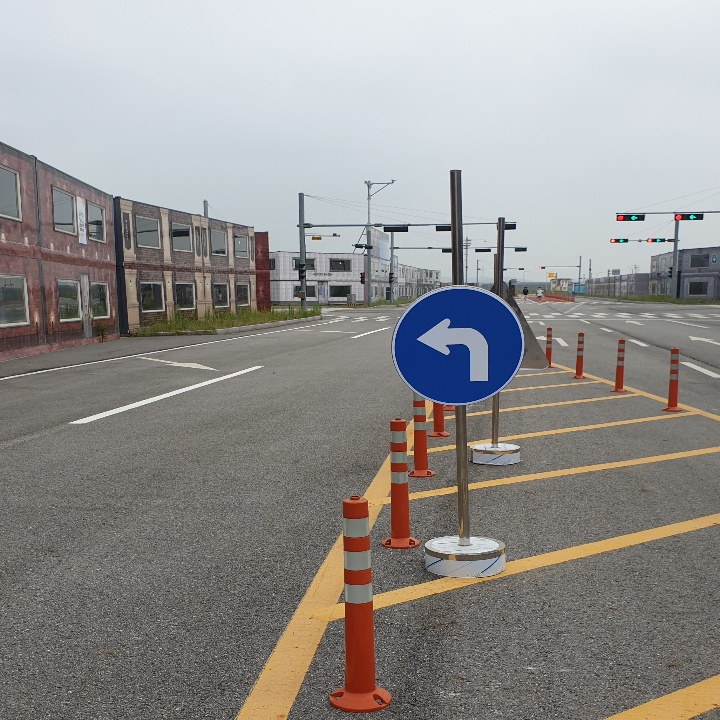left: (410, 311, 499, 395)
